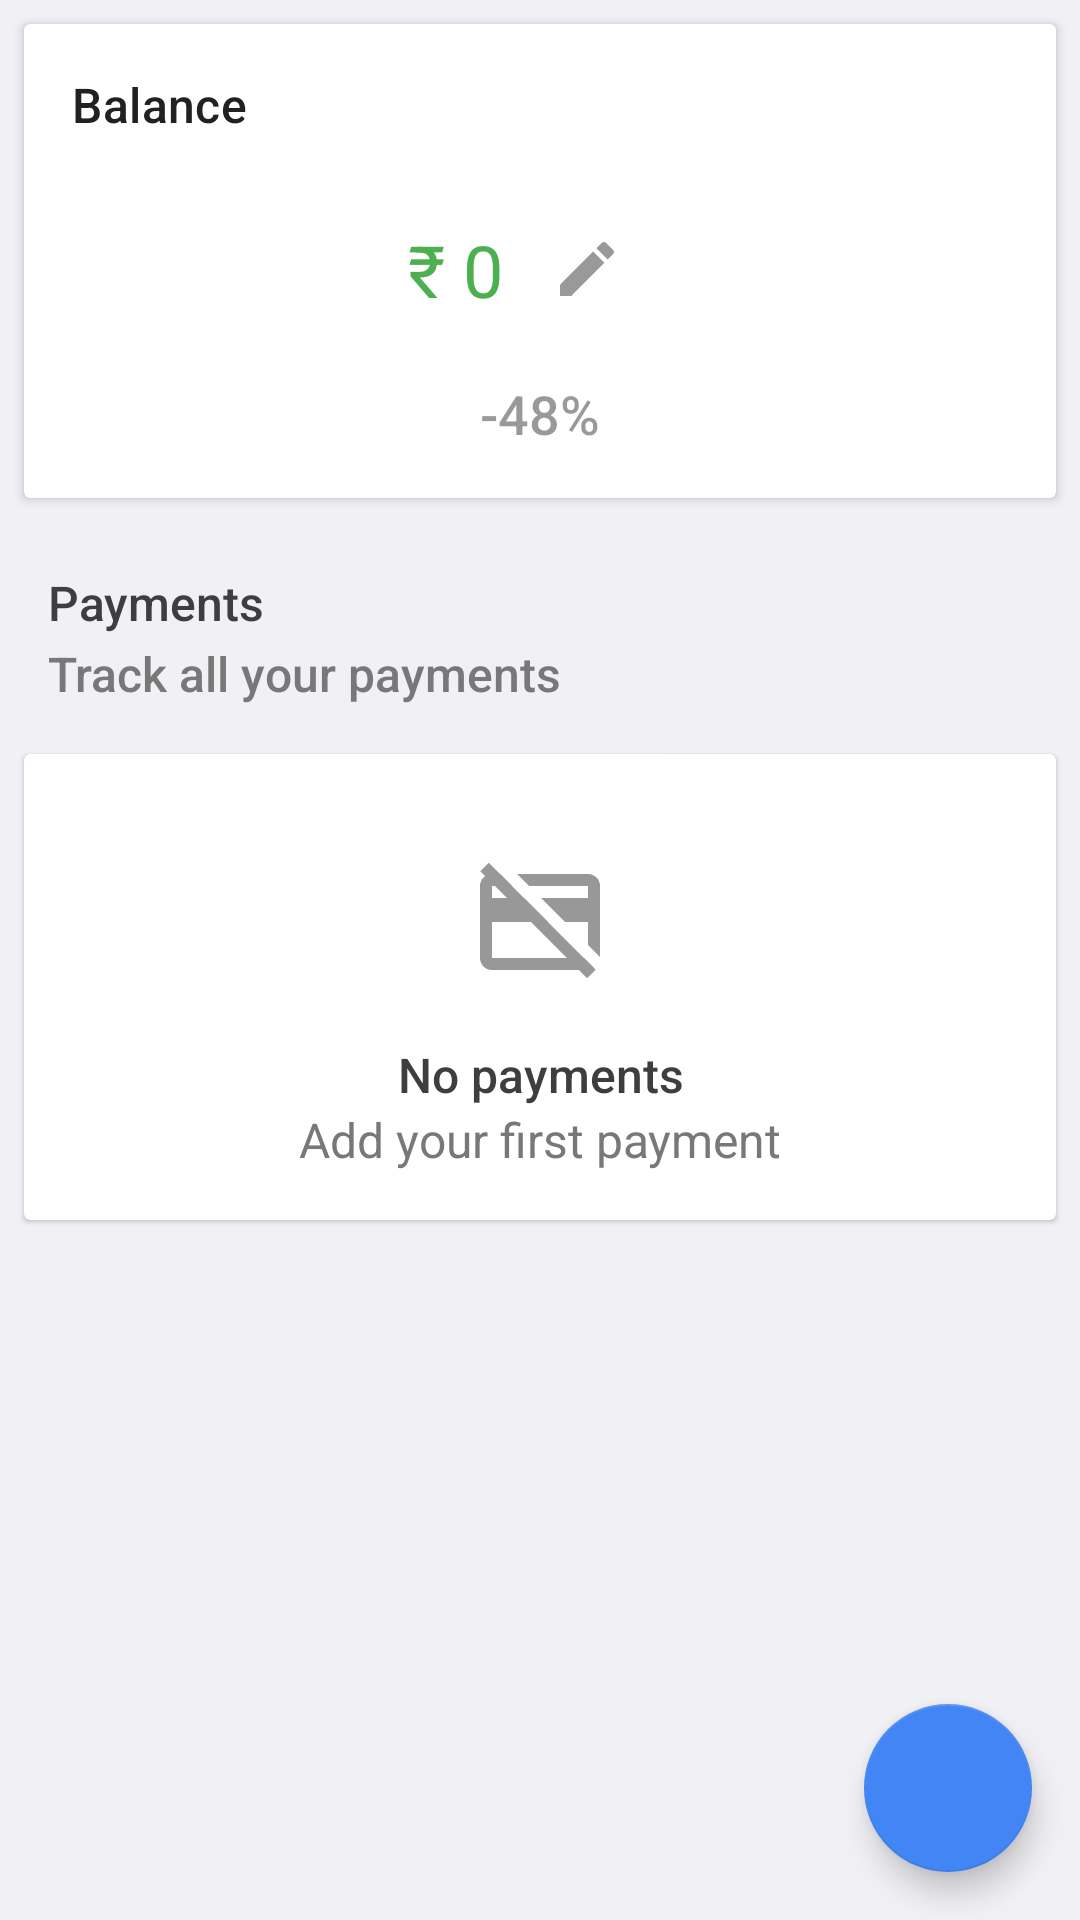

Locate icon controls on the screen. Image size 1080 x 1920, boxes as region(x1, y1, x2, y2).
edit: region(560, 242, 614, 296)
